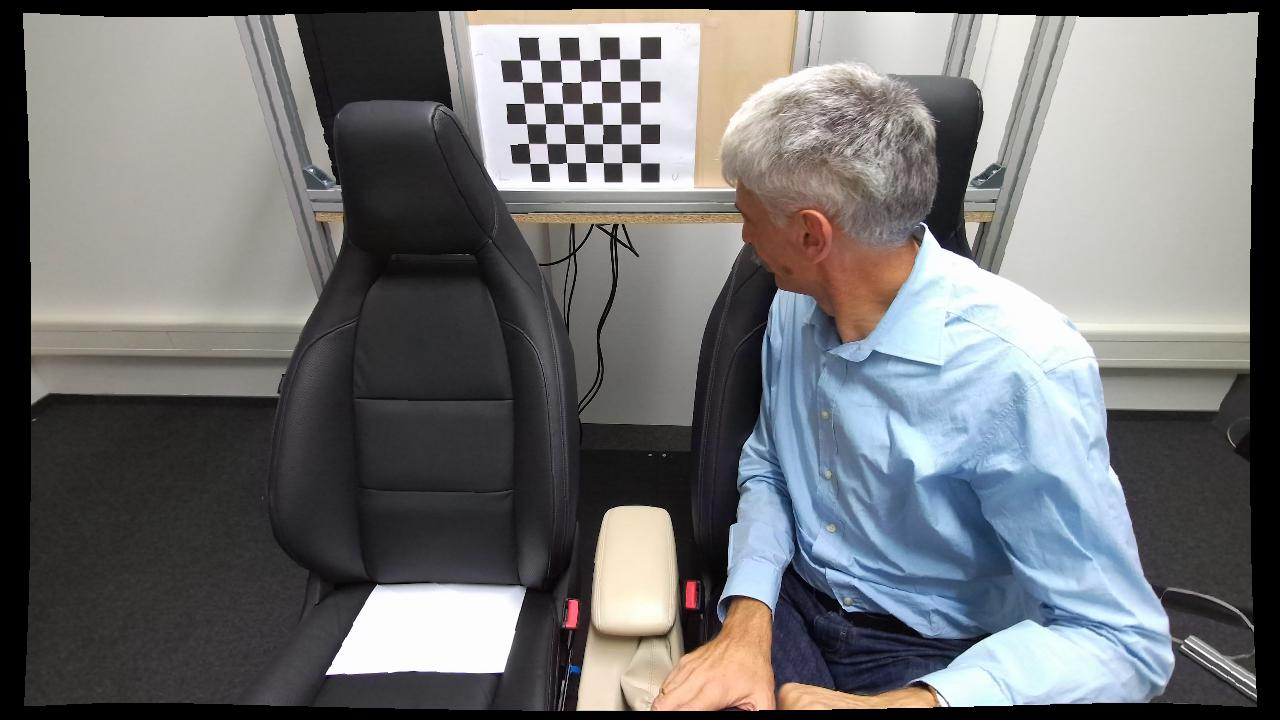Distracted: (693, 53, 1086, 709)
